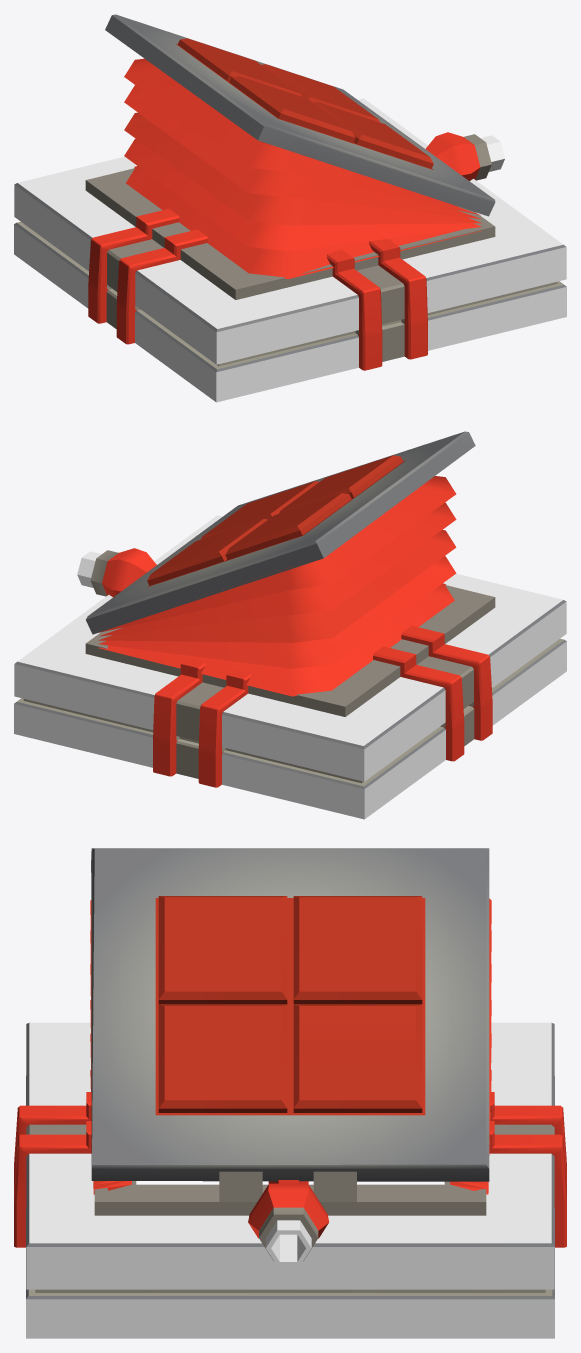
Rendered from island7-defense2 (2).fbx.
3 renders of one model, top to bottom at view 1: azimuth 30°, elevation 25°; view 2: azimuth 150°, elevation 25°; view 3: azimuth 270°, elevation 25°, orthographic. The views are drawn at different scales.
Parts seen in each view (by area): view 1: island7-defense2, island7-defense2.01, island7-defense2.02; view 2: island7-defense2, island7-defense2.01, island7-defense2.02; view 3: island7-defense2.02, island7-defense2, island7-defense2.01.
Boxes of the visible parts, x1,y1,x2,y2 form: island7-defense2: (14,98,566,402); island7-defense2.01: (124,58,481,279); island7-defense2.02: (105,14,495,216); island7-defense2: (14,515,566,819); island7-defense2.01: (98,476,456,696); island7-defense2.02: (86,431,475,634); island7-defense2.02: (91,848,489,1181); island7-defense2: (14,1022,566,1338); island7-defense2.01: (90,898,491,1194).
Bounding box in the file's own units: 4.61 × 2.73 × 4.35.
Materials: 1 (1 with a texture image).
